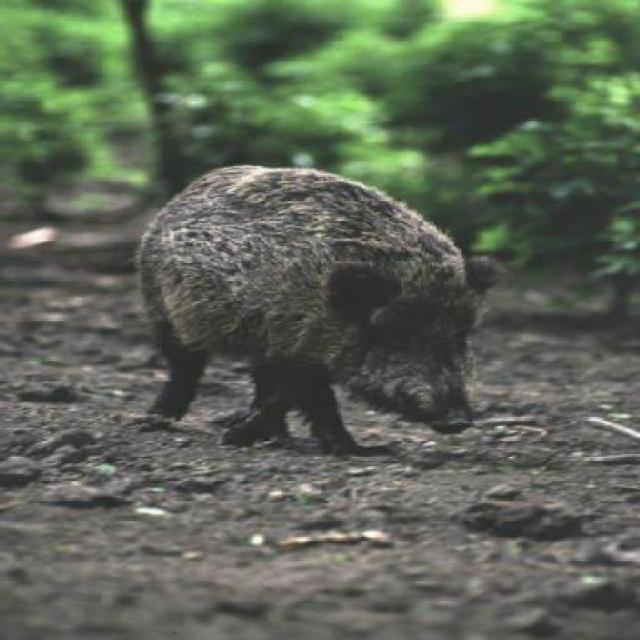Boar: (111, 157, 512, 441)
